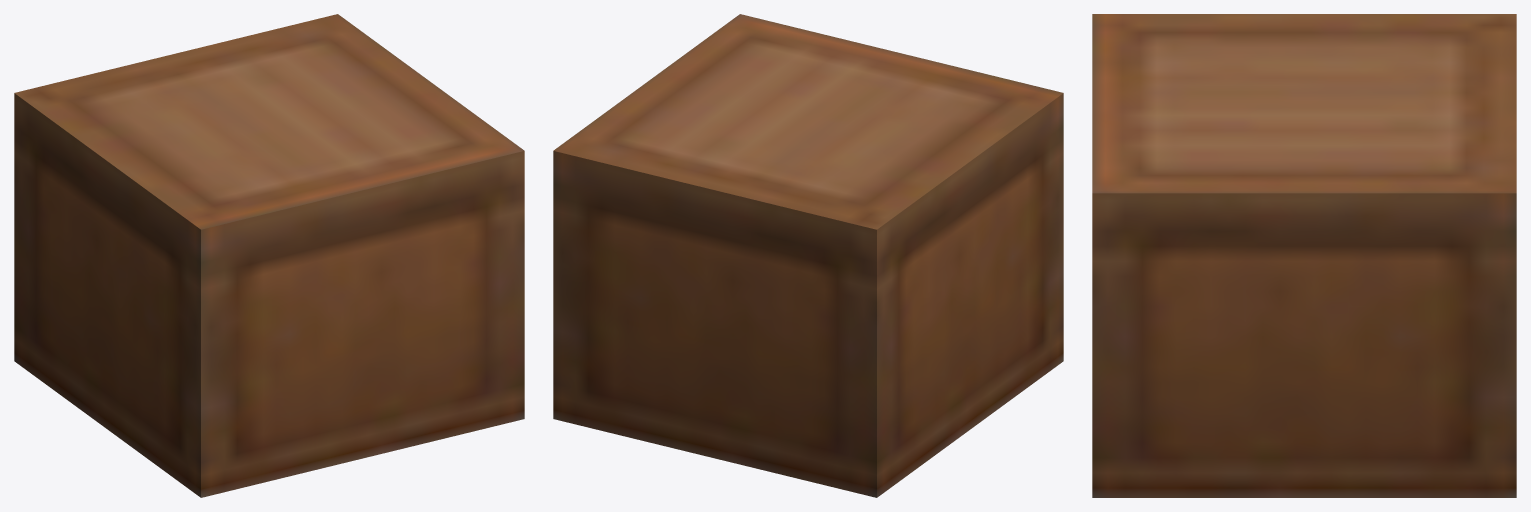
The model's file is etc_woodbox01.FBX.
The picture shows the model from 3 angles, left to right: view 1: azimuth 30°, elevation 25°; view 2: azimuth 150°, elevation 25°; view 3: azimuth 270°, elevation 25°; orthographic projection. The views are drawn at different scales.
Visible parts, largest first — view 1: etc_woodbox01; view 2: etc_woodbox01; view 3: etc_woodbox01.
Part boxes in pixels (x1=…): etc_woodbox01: x1=14, y1=14, x2=524, y2=497; etc_woodbox01: x1=553, y1=14, x2=1063, y2=497; etc_woodbox01: x1=1092, y1=14, x2=1516, y2=497.
Size of the model in its own units: 60.73 by 48.09 by 60.73.
